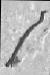G17: (4, 0, 46, 74)
